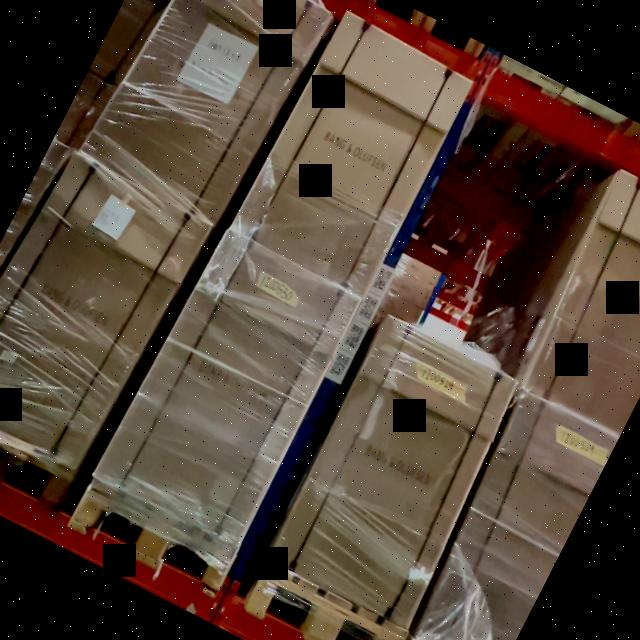box: (272, 318, 526, 628), (114, 239, 368, 538), (230, 7, 472, 300), (0, 136, 213, 465), (98, 0, 331, 217), (514, 175, 640, 435)
